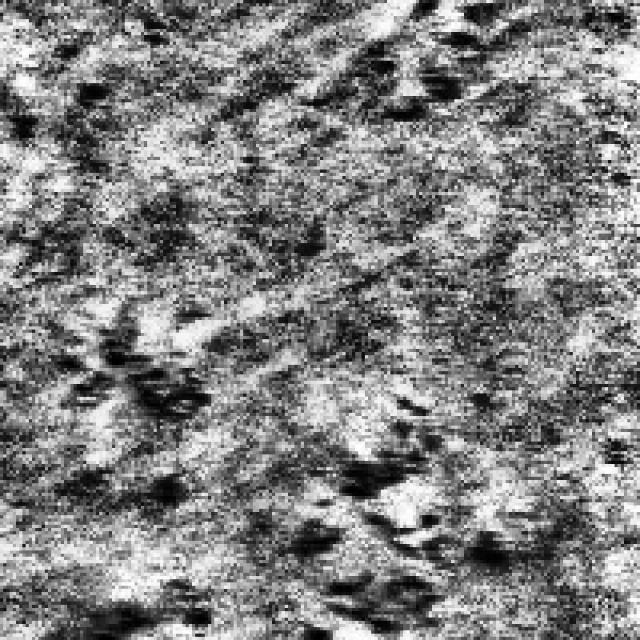Crazing: (276, 387, 506, 637), (57, 298, 212, 512), (316, 0, 499, 125), (64, 570, 214, 634)
